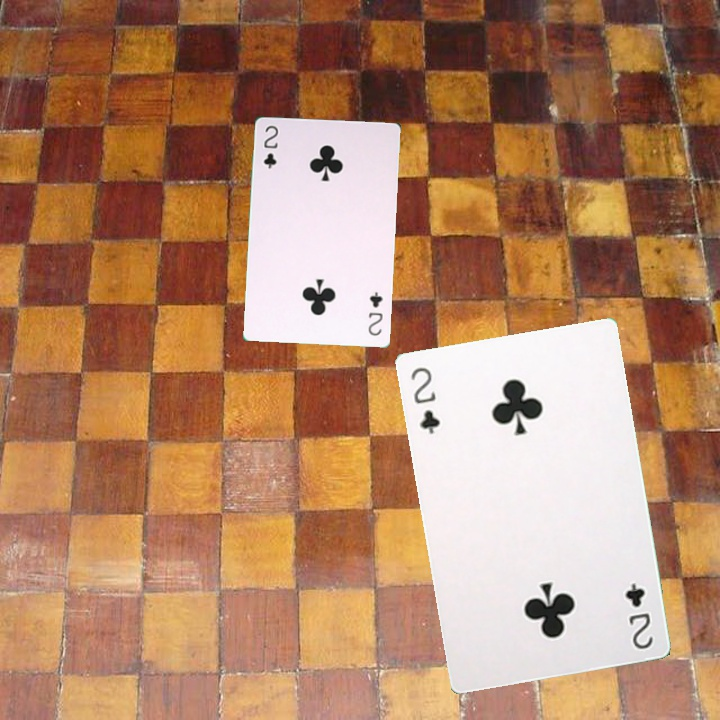2c: (407, 363, 442, 437), (621, 579, 656, 652), (364, 288, 385, 338), (260, 122, 281, 171)
